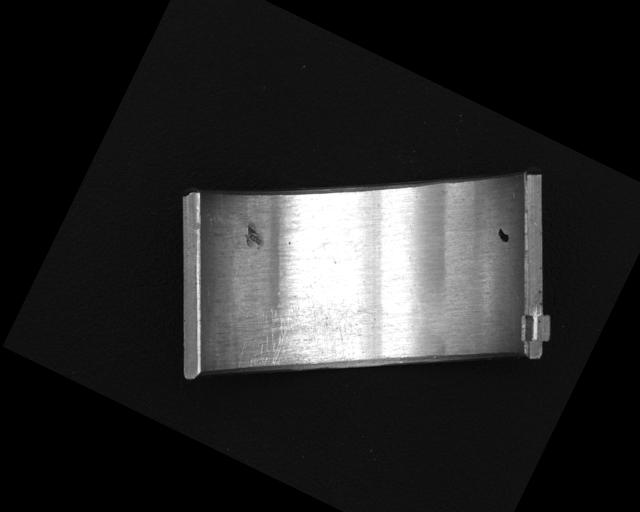blot: (494, 226, 513, 244)
bruise: (237, 222, 270, 253)
scratch: (231, 279, 363, 407)
